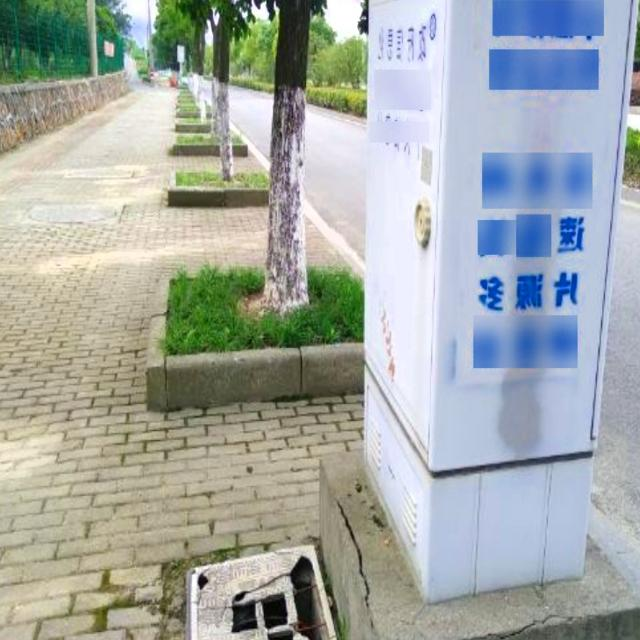broke: (179, 539, 362, 640)
